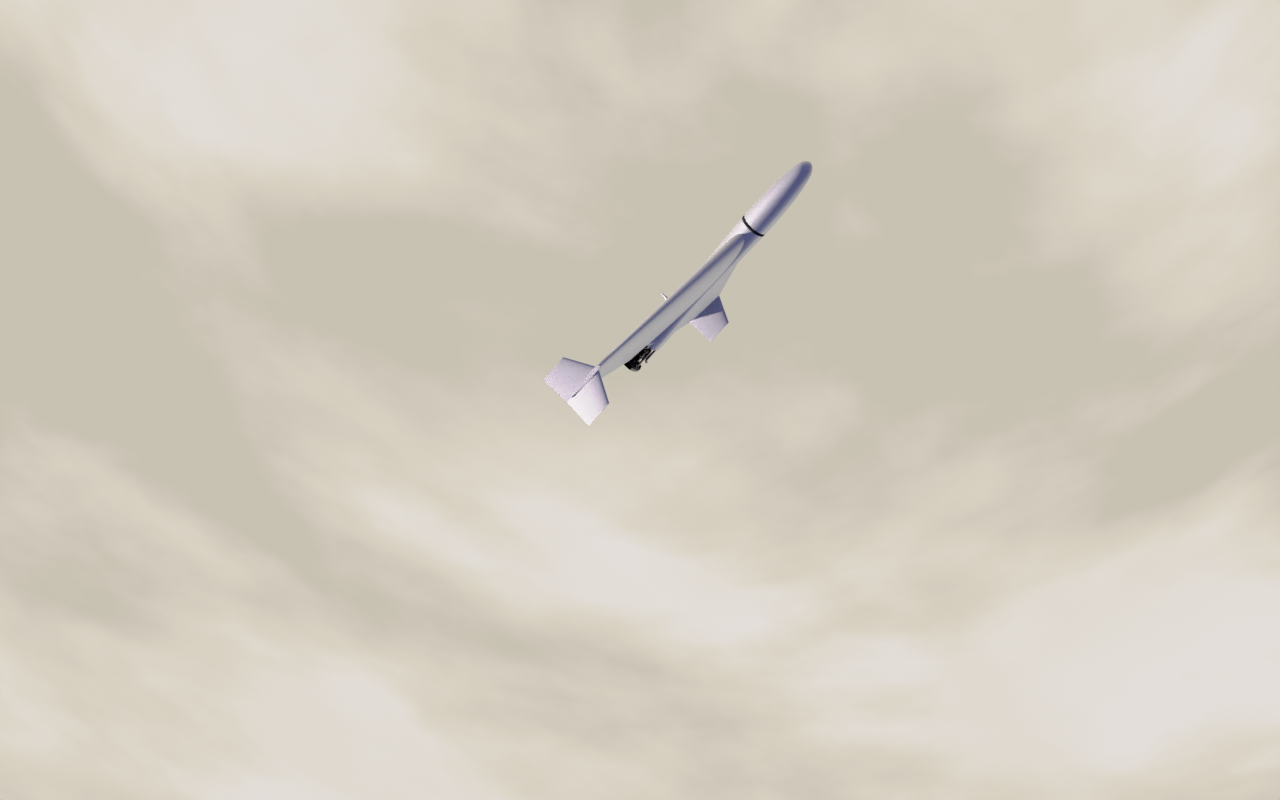shahed: (544, 161, 815, 428)
